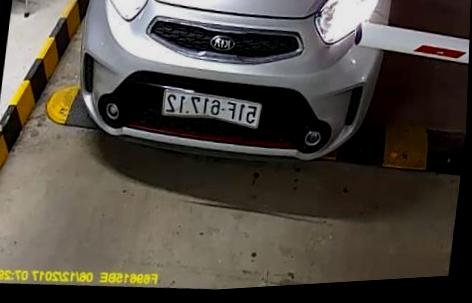License_Plate: (146, 81, 271, 138)
